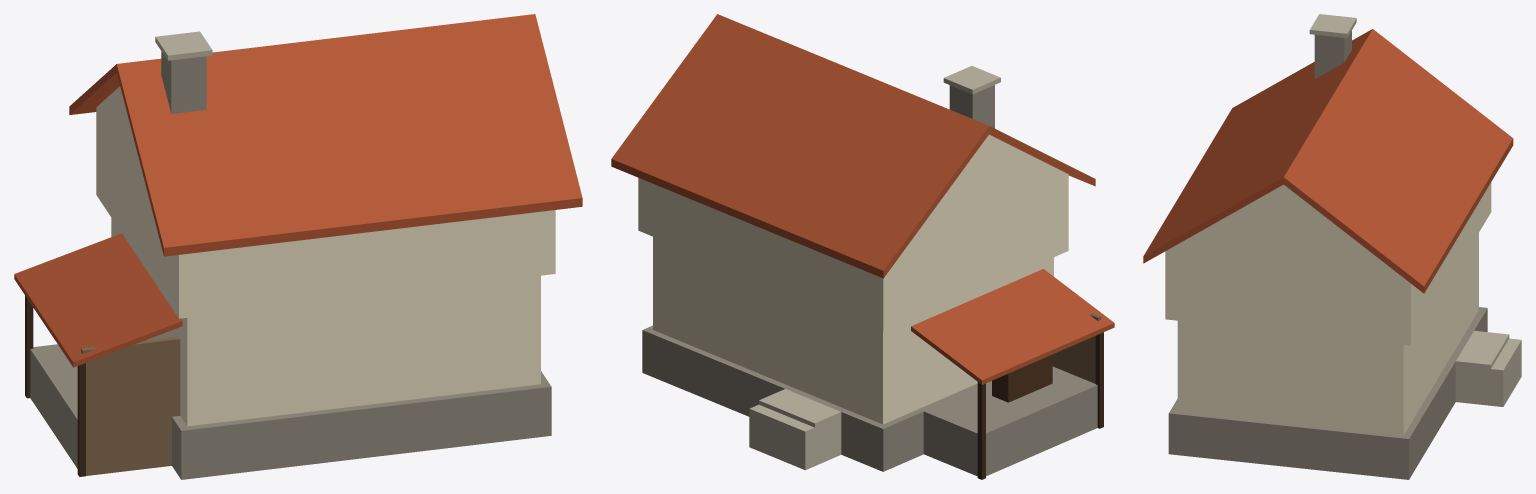
Rendered from SM_Millbrook_House6.fbx.
3 views of the same model, side by side, from view 1: azimuth 30°, elevation 25°; view 2: azimuth 150°, elevation 25°; view 3: azimuth 270°, elevation 25° (orthographic). The views are drawn at different scales.
Parts seen in each view (by area): view 1: SM_Millbrook_House6; view 2: SM_Millbrook_House6; view 3: SM_Millbrook_House6.
Part boxes in pixels (x1,y1,x2,y2): SM_Millbrook_House6: [14, 14, 582, 479]; SM_Millbrook_House6: [611, 14, 1114, 479]; SM_Millbrook_House6: [1143, 14, 1521, 479].
Bounding box in the file's own units: 11.84 × 8.8 × 9.4.
